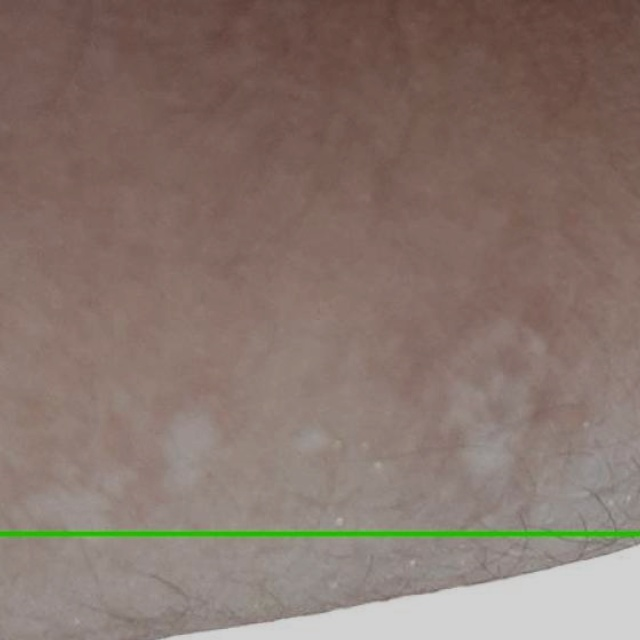Atopic Dermatitis: (0, 532, 639, 639)
